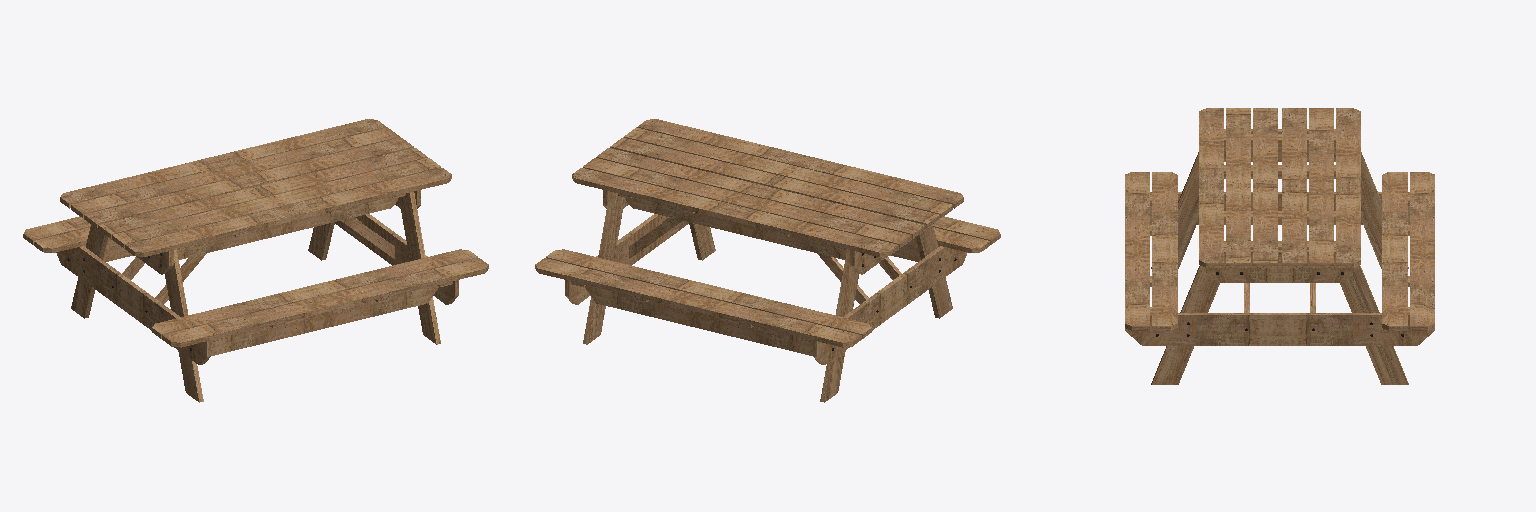
3 views of the same model, side by side, from view 1: azimuth 30°, elevation 25°; view 2: azimuth 150°, elevation 25°; view 3: azimuth 270°, elevation 25° (orthographic).
Visible parts, largest first — view 1: Object_4; view 2: Object_4; view 3: Object_4.
Part boxes in pixels (left/top/right/bottom): Object_4: left=23, top=119, right=488, bottom=402; Object_4: left=535, top=119, right=1000, bottom=402; Object_4: left=1125, top=108, right=1434, bottom=384.
Size of the model in its own units: 4.82 by 2.04 by 4.08.
Materials: 2 (1 with a texture image).